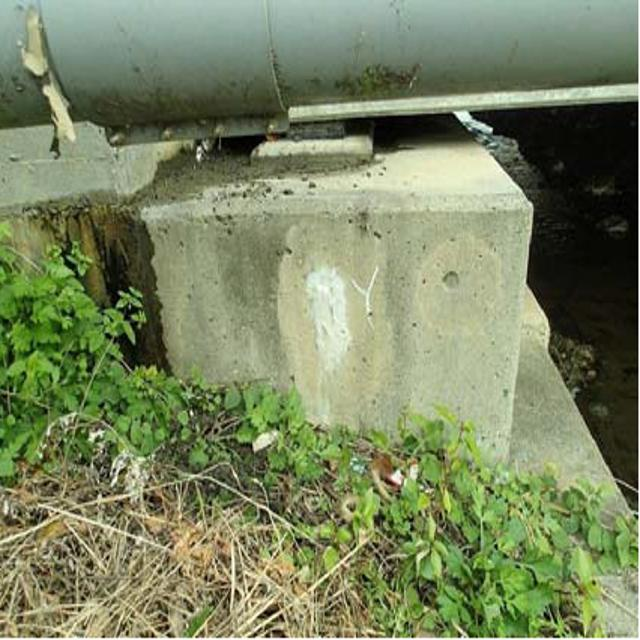freelime: (297, 263, 377, 380)
leakage: (50, 121, 277, 373)
